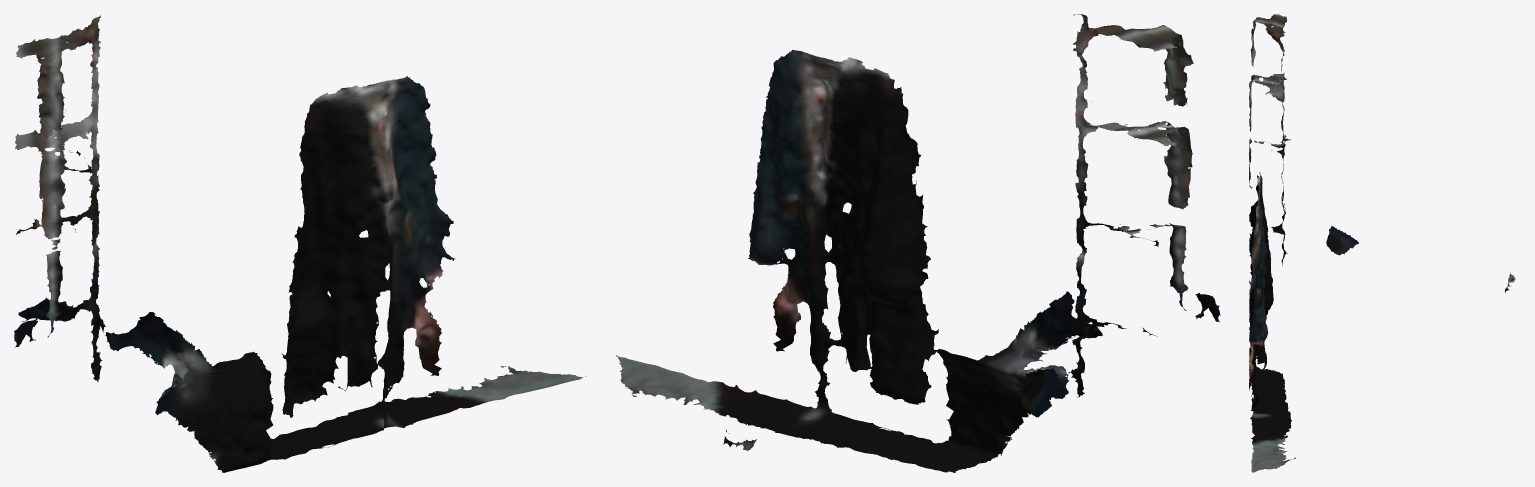
The model's file is color_model_f003_20251226_161540.obj.
3 views of the same model, side by side, from view 1: azimuth 30°, elevation 25°; view 2: azimuth 150°, elevation 25°; view 3: azimuth 270°, elevation 25° (orthographic). The views are drawn at different scales.
Size of the model in its own units: 2.12 by 1.66 by 1.35.
